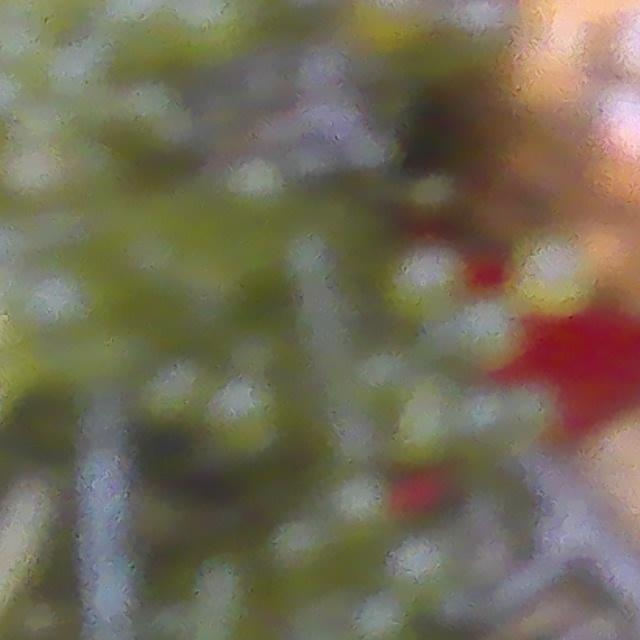SeaGrape: (326, 471, 397, 545)
